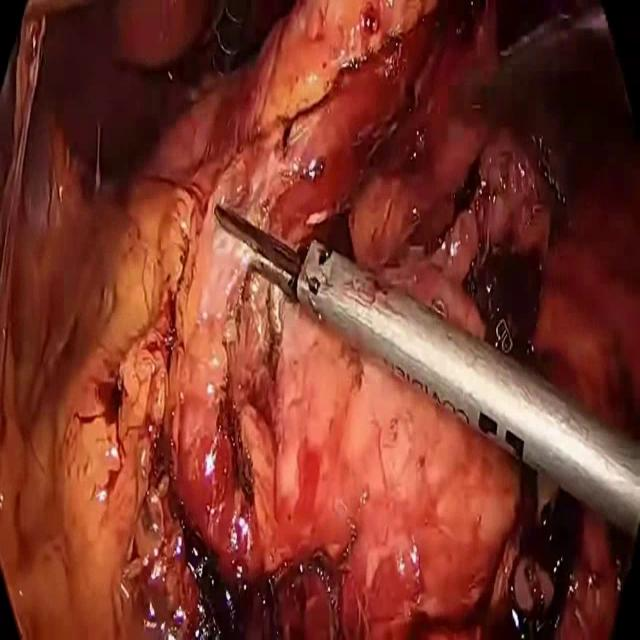surgical-area: (0, 0, 640, 639)
surgical-tool: (214, 204, 640, 541)
